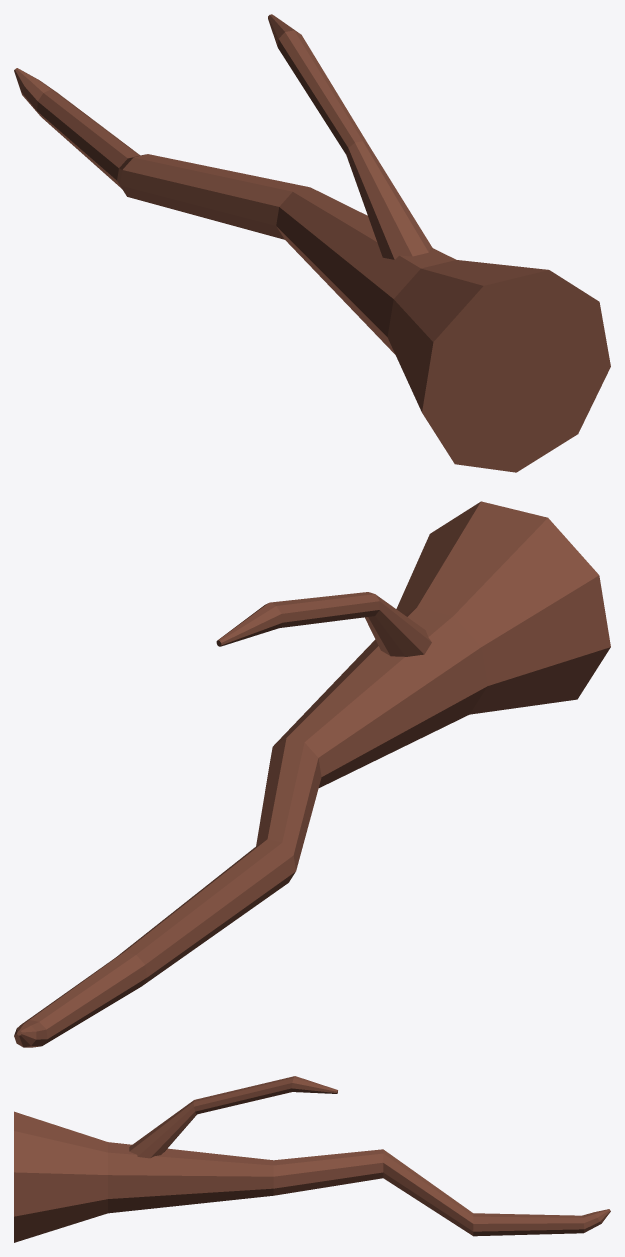
The model's file is lage tak.fbx.
3 views of the same model, one above another, from view 1: azimuth 30°, elevation 25°; view 2: azimuth 150°, elevation 25°; view 3: azimuth 270°, elevation 25° (orthographic). The views are drawn at different scales.
Visible parts, largest first — view 1: Cylinder, Cylinder.001; view 2: Cylinder, Cylinder.001; view 3: Cylinder, Cylinder.001.
Part boxes in pixels (left/top/right/bottom): Cylinder: left=14, top=68, right=610, bottom=472; Cylinder.001: left=268, top=14, right=432, bottom=259; Cylinder: left=14, top=501, right=610, bottom=1047; Cylinder.001: left=216, top=592, right=431, bottom=656; Cylinder: left=14, top=1111, right=610, bottom=1242; Cylinder.001: left=129, top=1076, right=337, bottom=1158.
Size of the model in its own units: 273 by 374 by 1237.
